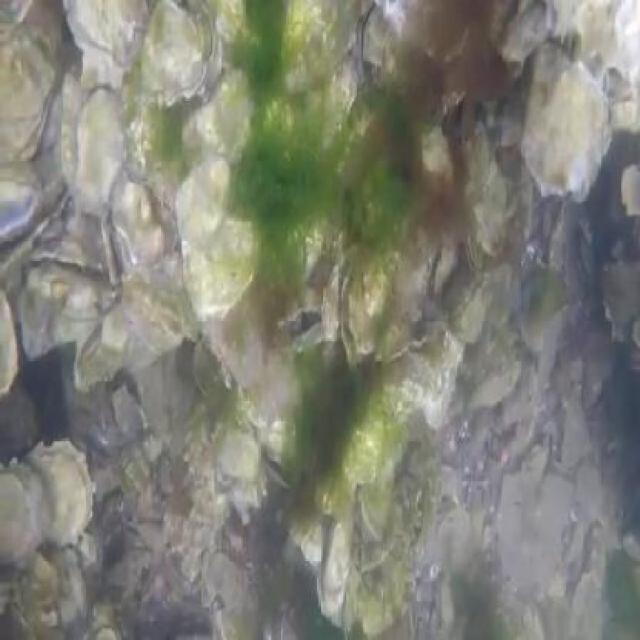Oyster- Indeterminate: (527, 43, 613, 200), (63, 80, 146, 208), (141, 0, 234, 107), (0, 34, 72, 165), (166, 158, 249, 265), (335, 401, 410, 506), (272, 0, 363, 86), (61, 0, 154, 84), (184, 215, 257, 312), (29, 445, 99, 537), (115, 181, 183, 275), (182, 68, 252, 156), (514, 270, 571, 357), (455, 133, 510, 209), (0, 465, 42, 563), (255, 95, 312, 161), (382, 350, 433, 420), (324, 525, 362, 617), (414, 119, 462, 191), (467, 359, 518, 424), (432, 333, 467, 427), (504, 2, 556, 63), (196, 551, 245, 610), (189, 330, 229, 402), (13, 552, 63, 608), (308, 472, 356, 528), (0, 287, 20, 399), (218, 430, 256, 487), (467, 203, 511, 245), (620, 167, 640, 225), (6, 607, 38, 639)
Oyster-Closed: (0, 174, 40, 252), (493, 591, 552, 640), (323, 59, 356, 145), (357, 490, 385, 548)
Oyster-Open: (333, 249, 390, 367), (405, 237, 474, 329), (64, 314, 129, 392), (269, 301, 330, 360), (457, 276, 499, 346), (319, 255, 349, 343), (58, 531, 103, 575)
